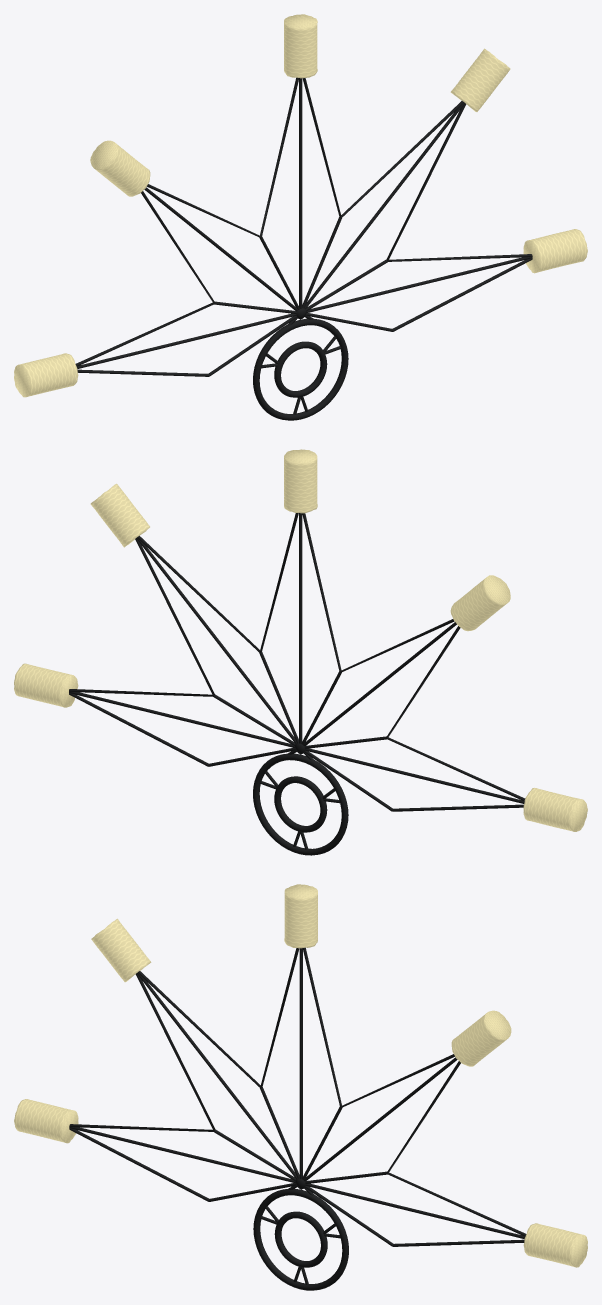
Rendered from fan-star.glb.
The picture shows the model from 3 angles, top to bottom: view 1: azimuth 30°, elevation 25°; view 2: azimuth 150°, elevation 25°; view 3: azimuth 330°, elevation 25°; orthographic projection.
Visible parts, largest first — view 1: Fan_Star; view 2: Fan_Star; view 3: Fan_Star.
Part boxes in pixels (x1,y1,x2,y2): Fan_Star: (14,14,587,420); Fan_Star: (14,449,587,855); Fan_Star: (14,884,587,1290).
Size of the model in its own units: 0.598 by 0.4077 by 0.0313.
3 materials, 1 textured.
